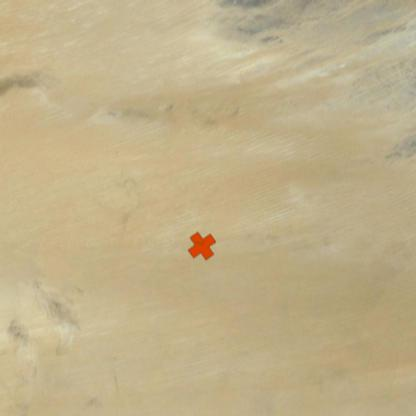L: (194, 240, 206, 247)
cross: (187, 231, 217, 261)
